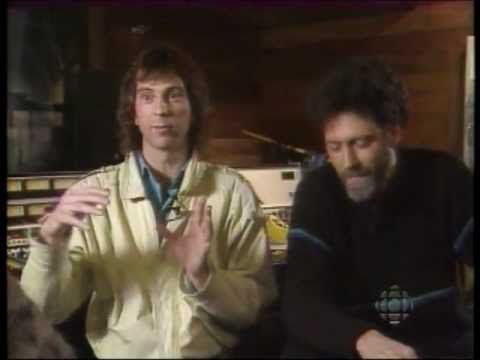bad: (312, 121, 386, 196), (128, 80, 190, 142)
